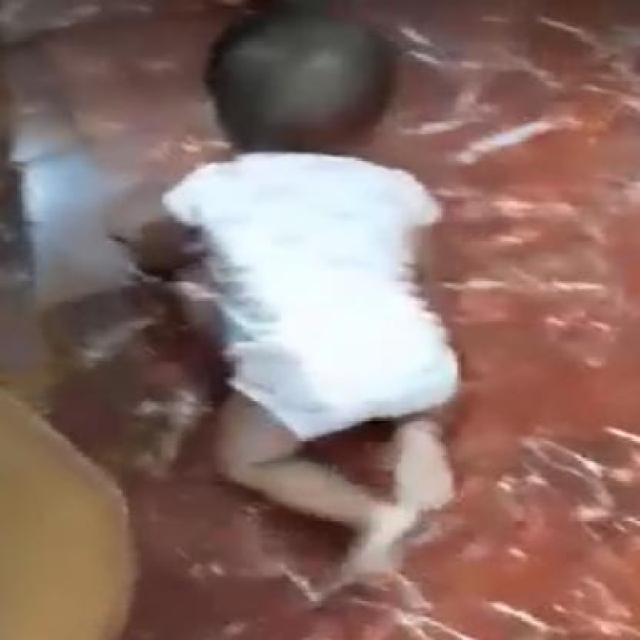non-dog: (156, 0, 469, 588)
puppy-dog: (35, 215, 234, 478)
